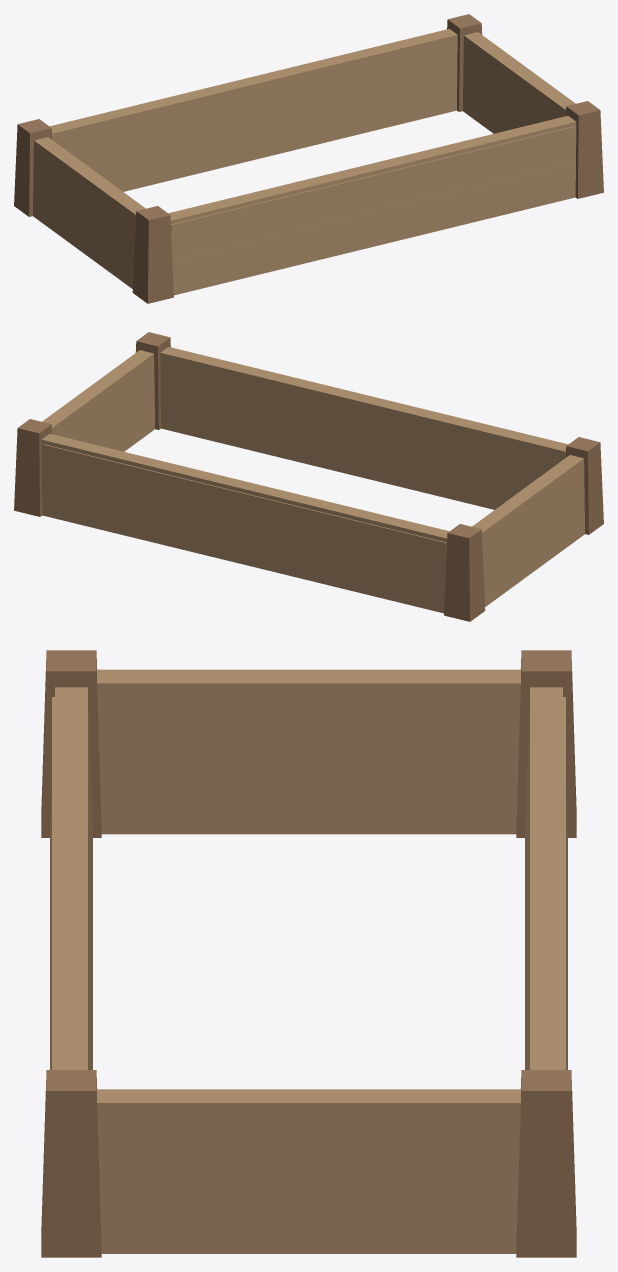
Rendered from raised-bed-frame-high.glb.
The picture shows the model from 3 angles, top to bottom: view 1: azimuth 30°, elevation 25°; view 2: azimuth 150°, elevation 25°; view 3: azimuth 270°, elevation 25°; orthographic projection. The views are drawn at different scales.
Parts seen in each view (by area): view 1: raised-bed-frame; view 2: raised-bed-frame; view 3: raised-bed-frame.
Boxes of the visible parts, box(x1,y1,x2,y2) form: raised-bed-frame: box(14, 14, 603, 303); raised-bed-frame: box(14, 332, 603, 621); raised-bed-frame: box(41, 650, 576, 1257).
Size of the model in its own units: 2.44 by 0.42 by 1.24.
